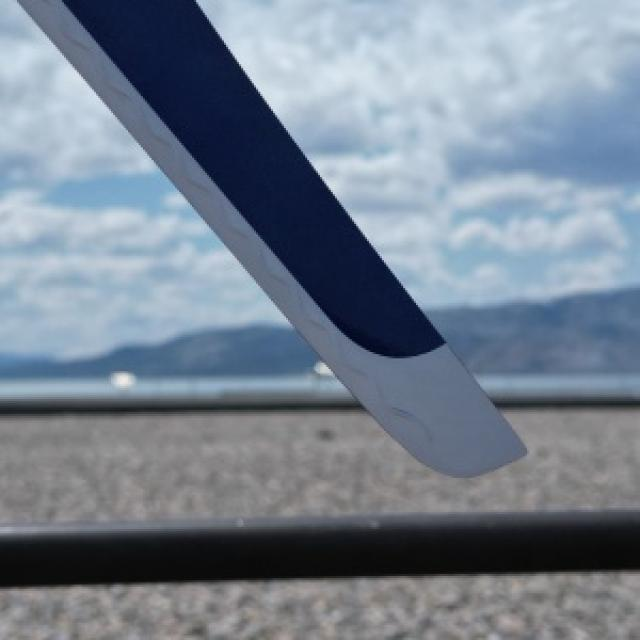healthy: (17, 0, 523, 474)
